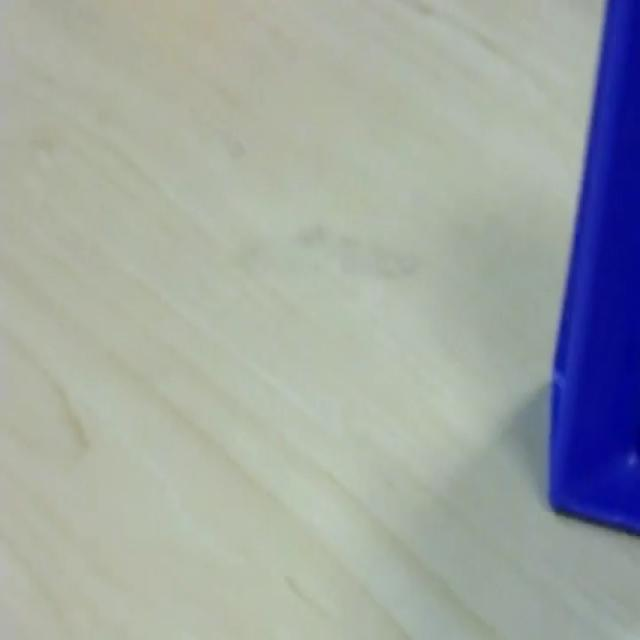blue_block: (546, 0, 639, 535)
